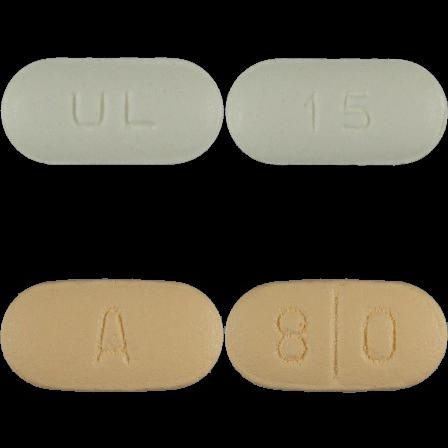33261-071: (0, 0, 224, 224)
